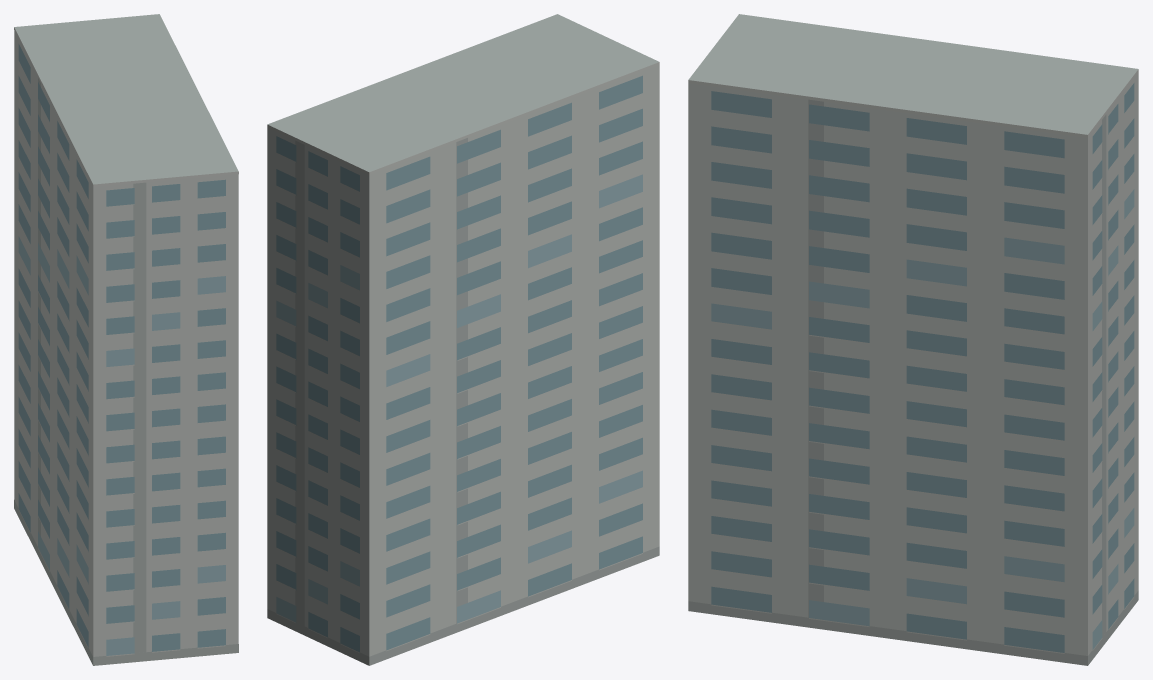
File: residential-b376a00d-e7e1-4a61-91eb-8d0924d81bbf.glb
The picture shows the model from 3 angles, left to right: view 1: azimuth 30°, elevation 25°; view 2: azimuth 150°, elevation 25°; view 3: azimuth 270°, elevation 25°; orthographic projection. The views are drawn at different scales.
Visible parts, largest first — view 1: residential-b376a00d-e7e1-4a61-91eb-8d0924d81bbf.tmp; view 2: residential-b376a00d-e7e1-4a61-91eb-8d0924d81bbf.tmp; view 3: residential-b376a00d-e7e1-4a61-91eb-8d0924d81bbf.tmp.
Boxes of the visible parts, box(x1,y1,x2,y2) form: residential-b376a00d-e7e1-4a61-91eb-8d0924d81bbf.tmp: box(14, 14, 238, 665); residential-b376a00d-e7e1-4a61-91eb-8d0924d81bbf.tmp: box(267, 14, 659, 665); residential-b376a00d-e7e1-4a61-91eb-8d0924d81bbf.tmp: box(688, 14, 1138, 665).
Size of the model in its own units: 20.52 by 42 by 32.29.
